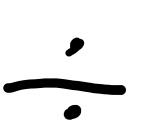div: (5, 43, 126, 121)
